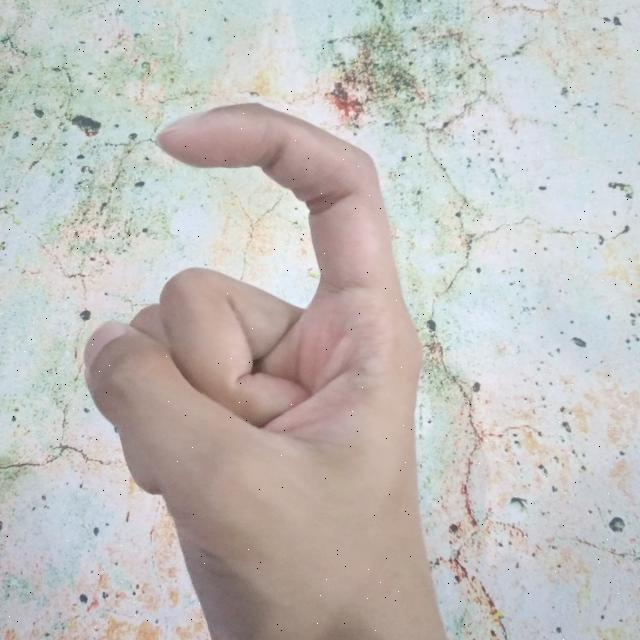X: (70, 94, 461, 640)
